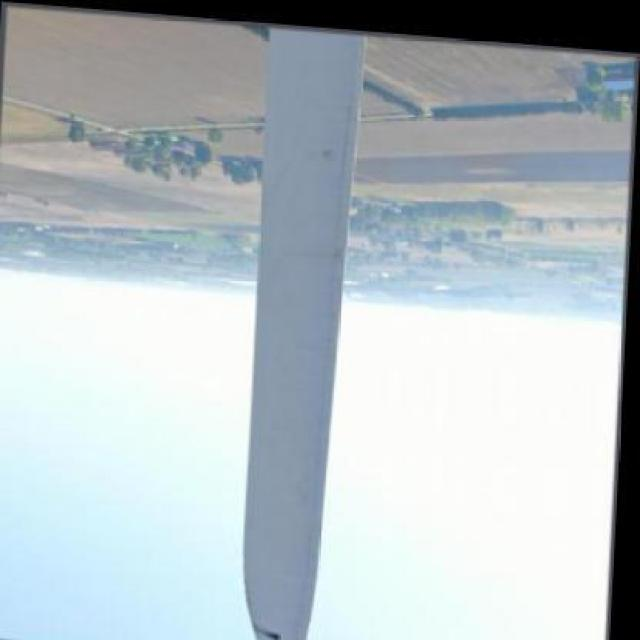Burn Mark: (256, 619, 291, 640)
